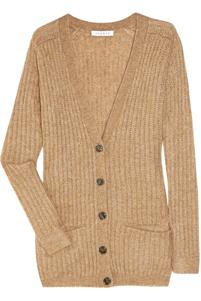S_cardigan sweater: (8, 7, 201, 289)
